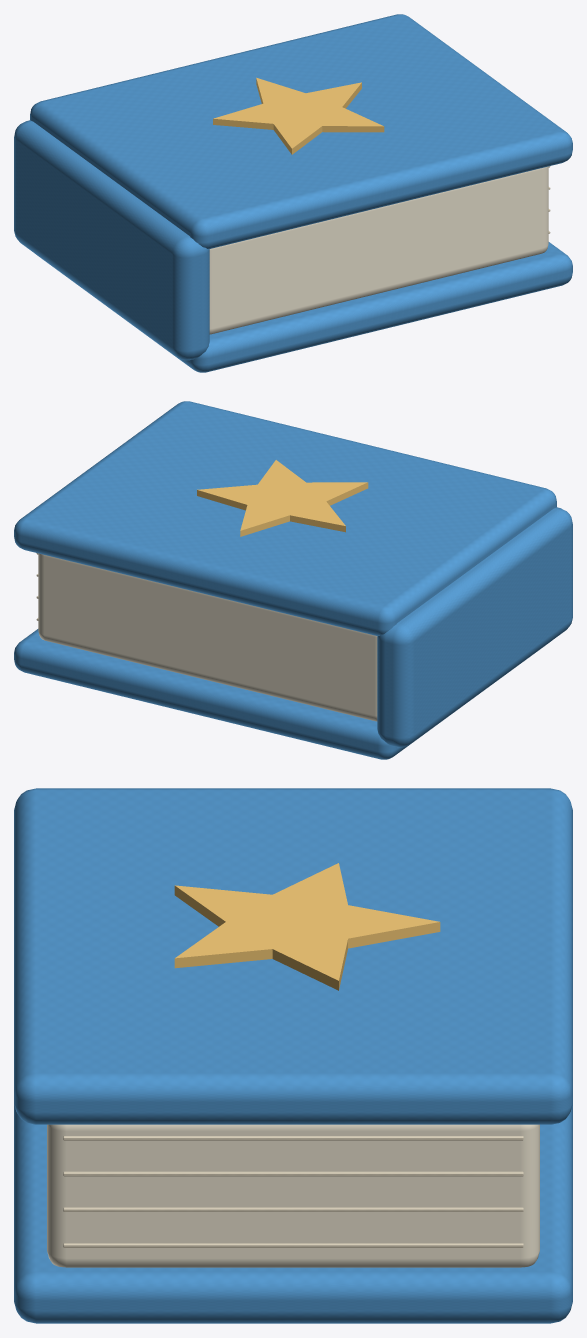
The model's file is BOOK.glb.
The picture shows the model from 3 angles, top to bottom: view 1: azimuth 30°, elevation 25°; view 2: azimuth 150°, elevation 25°; view 3: azimuth 270°, elevation 25°; orthographic projection. The views are drawn at different scales.
Parts seen in each view (by area): view 1: BOOK; view 2: BOOK; view 3: BOOK.
Part boxes in pixels (left/top/right/bottom): BOOK: left=14, top=14, right=572, bottom=372; BOOK: left=14, top=401, right=572, bottom=759; BOOK: left=14, top=788, right=572, bottom=1323.
Bounding box in the file's own units: 0.3395 × 0.13 × 0.255.
4 materials, 2 textured.
